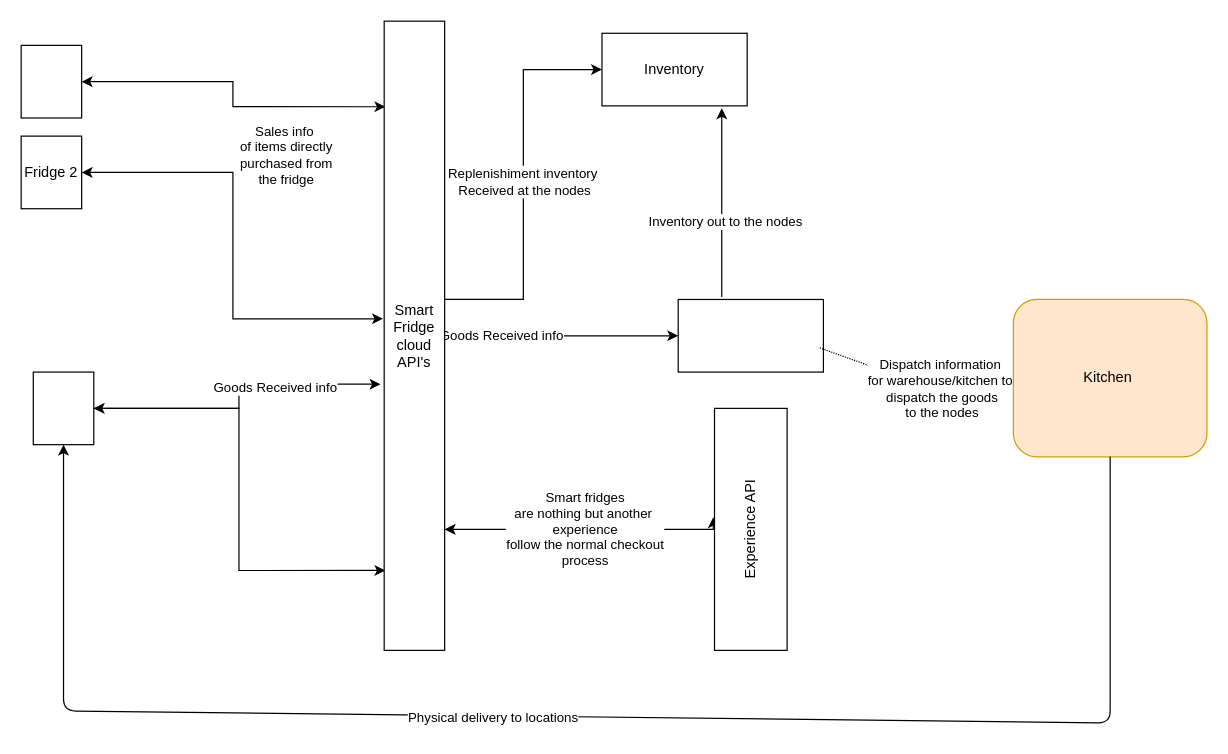
This 1228x754 diagram has some shape labels left out. Here are the shapes that lost their labels. From the top down, the centre of each, then its label:
[51,81]: Fridge 1
[750,335]: Distribution System
[63,408]: Fridge n
